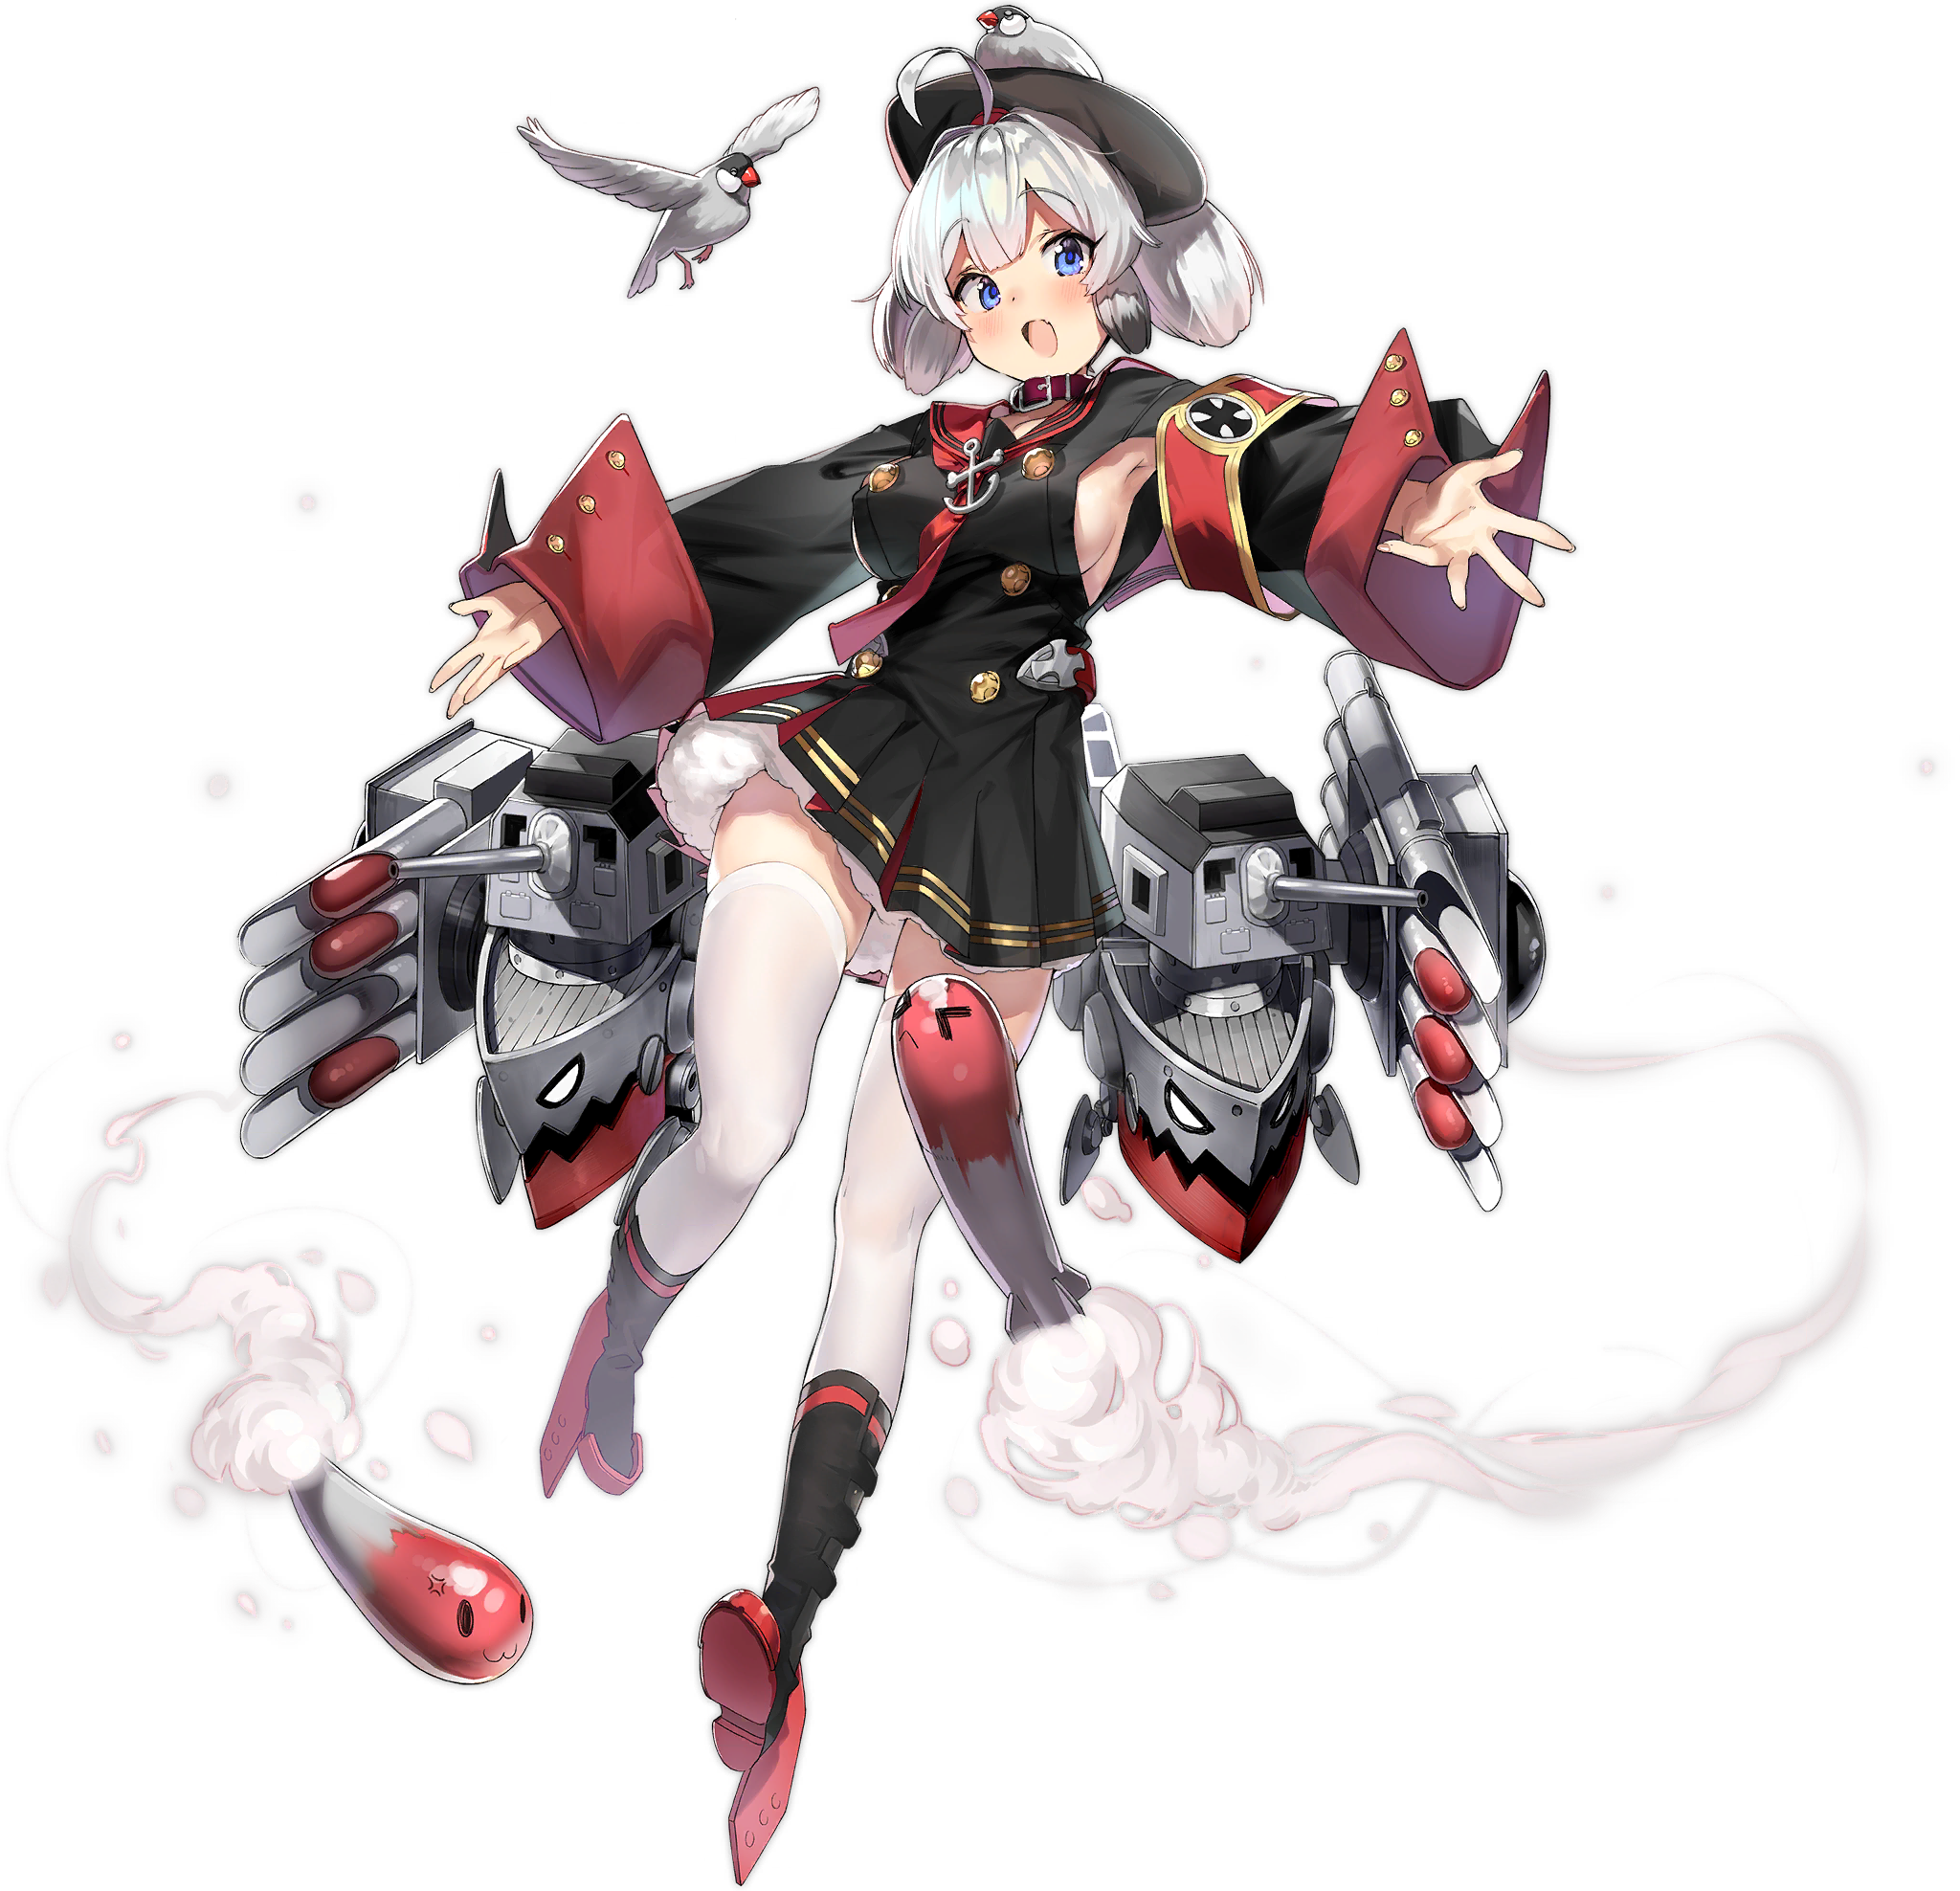person: (686, 1, 1316, 1472)
